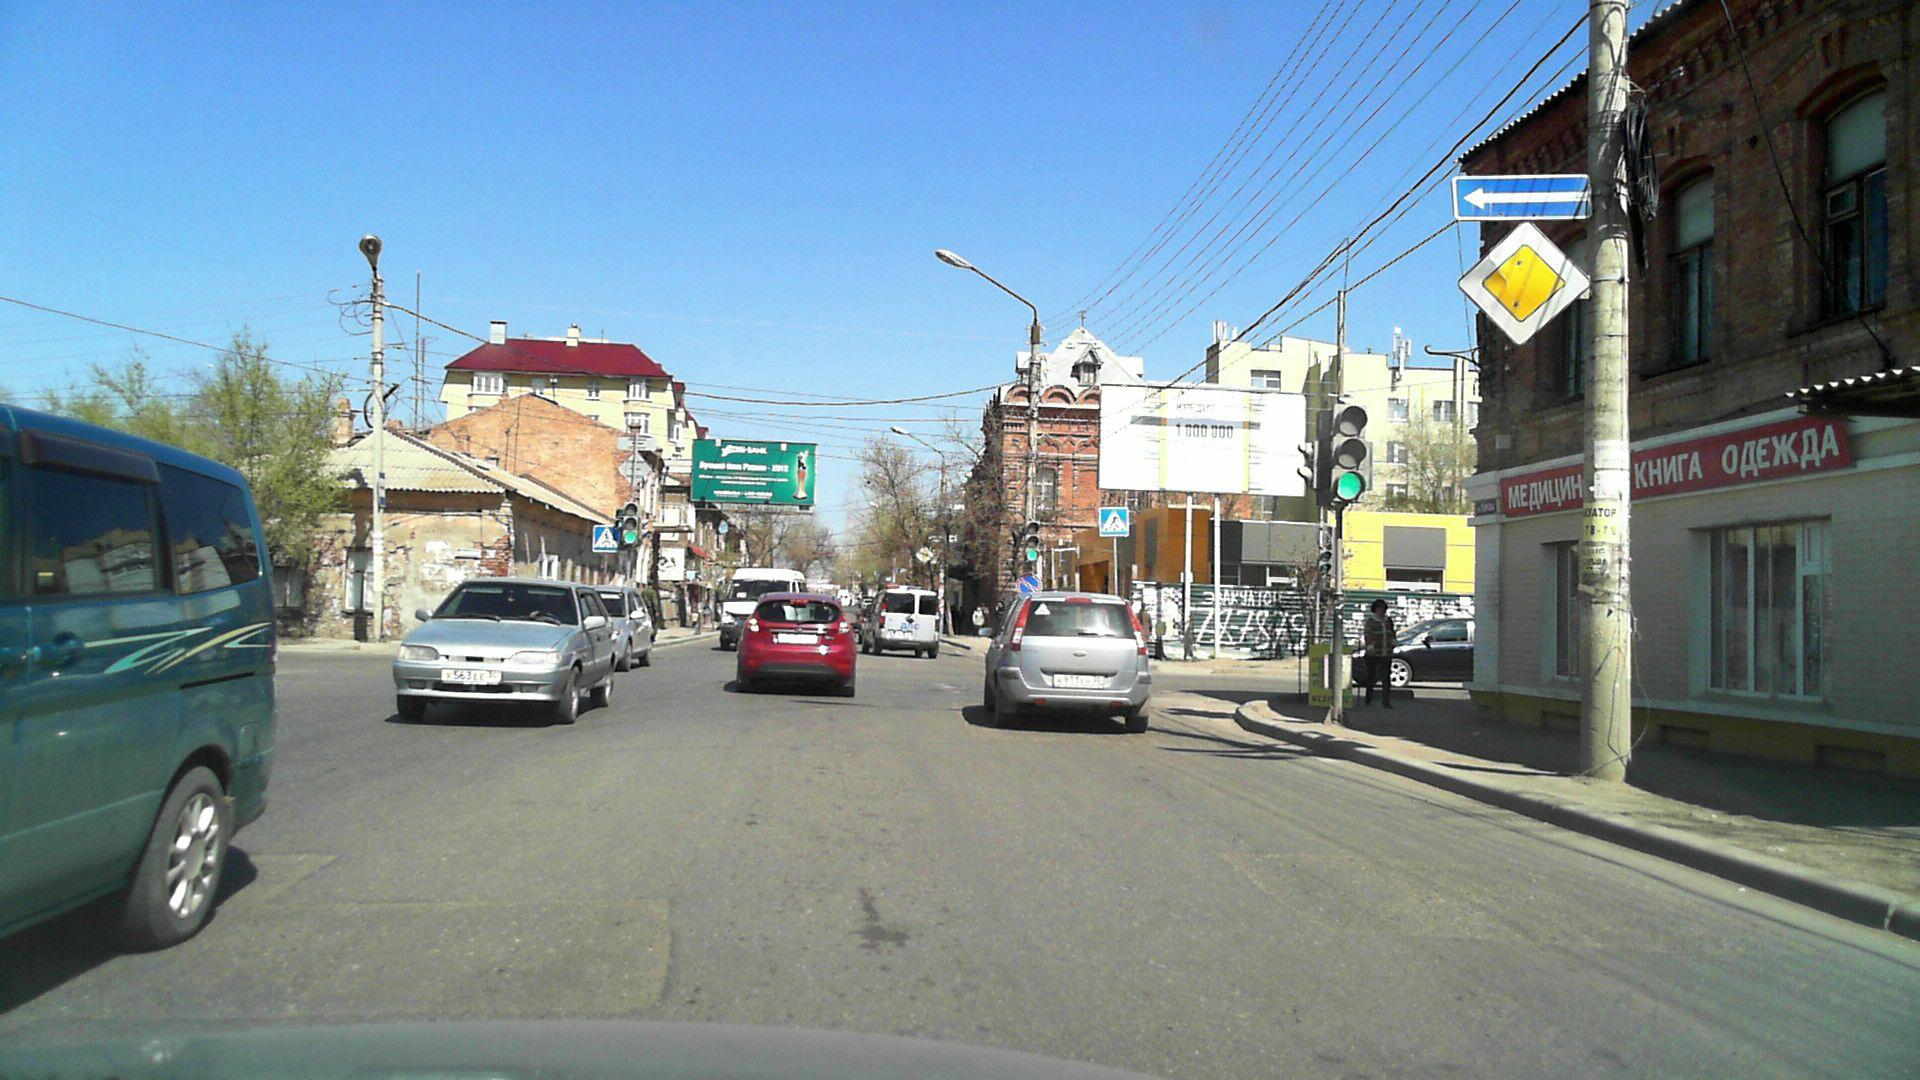2_1: (1456, 220, 1598, 347)
2_2: (911, 543, 935, 566)
3_28: (1018, 572, 1042, 597)
5_19_1: (1095, 502, 1134, 538)
5_19_2: (593, 525, 618, 551)
5_7_2: (1451, 171, 1590, 220)
